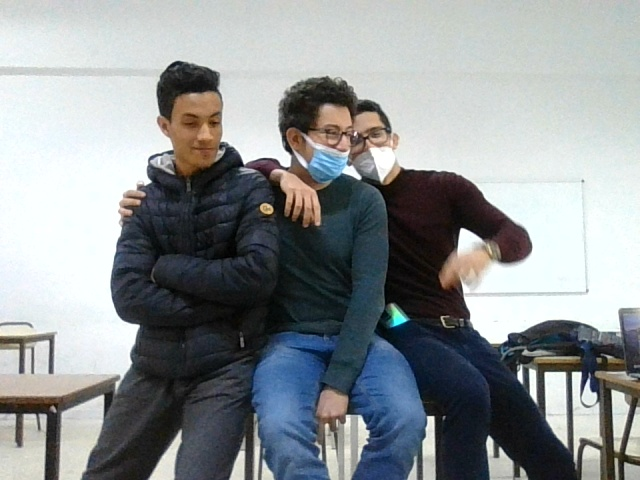mask_weared_incorrect: (272, 74, 355, 191), (354, 103, 405, 188)
without_mask: (146, 69, 228, 176)
